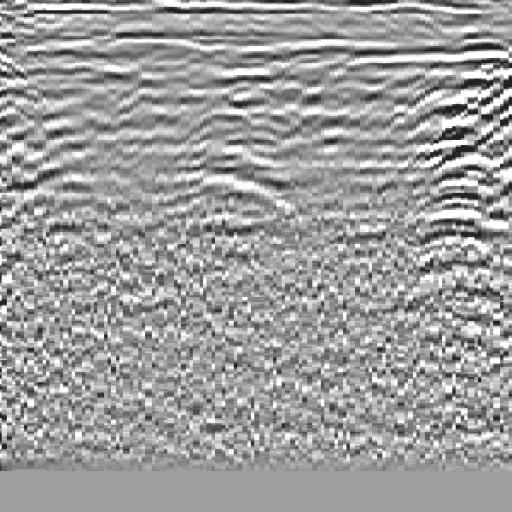metalic: (157, 50, 312, 259)
nonmetalic: (380, 49, 512, 295)
